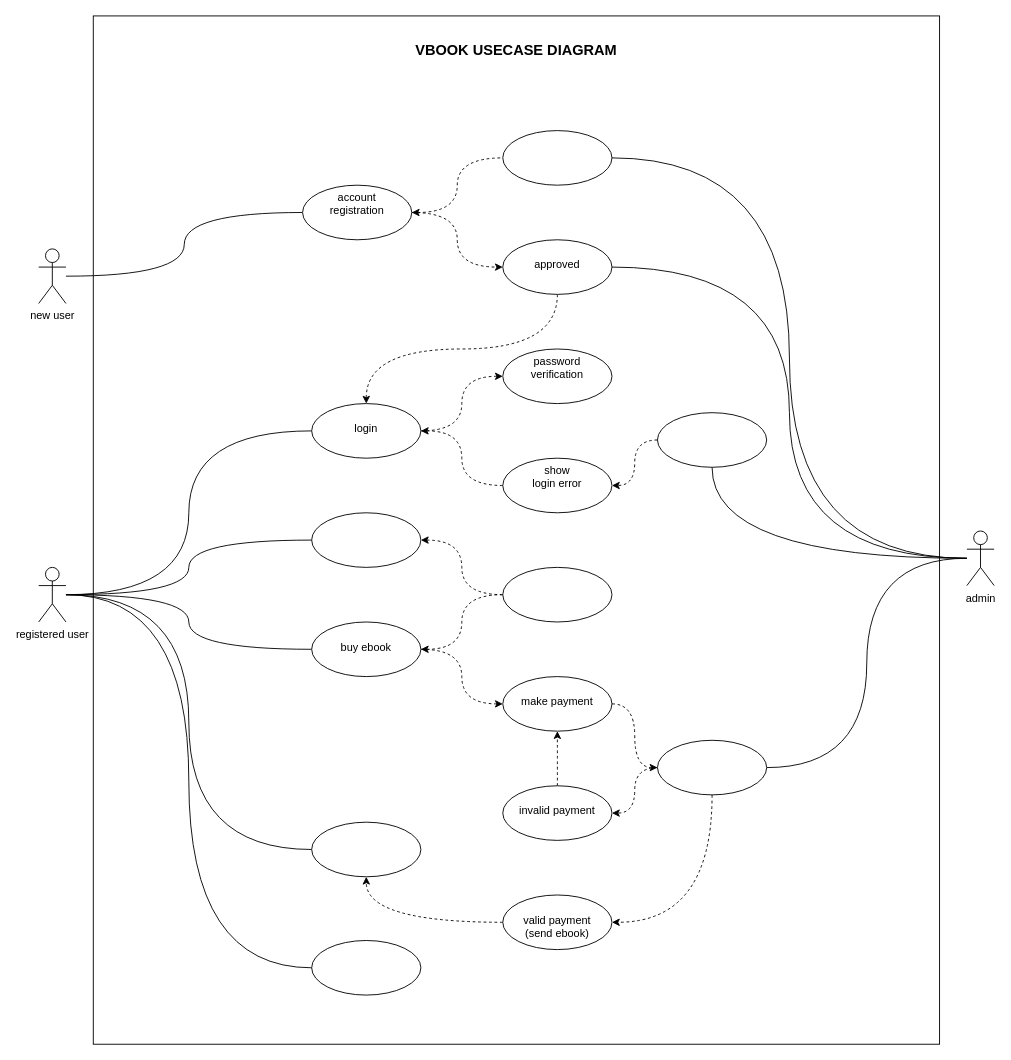
This 1011x1060 diagram has some shape labels left out. Each missing label, with the centre of its shape:
confirm payment: pixel 712 767
download ebook: pixel 366 849
logout: pixel 366 967
password reset: pixel 712 439
rejected: pixel 557 157
search ebook: pixel 366 539
show result: pixel 557 594
